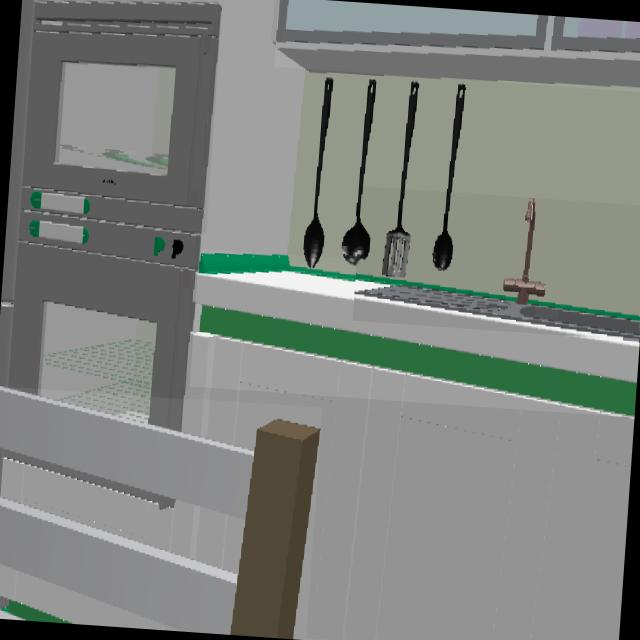cabinet: (181, 333, 634, 640), (275, 0, 640, 88)
chair: (0, 387, 319, 639)
countertop: (193, 254, 639, 417)
microwave: (22, 2, 221, 232)
oven: (12, 210, 200, 430)
sink: (354, 198, 640, 339)
